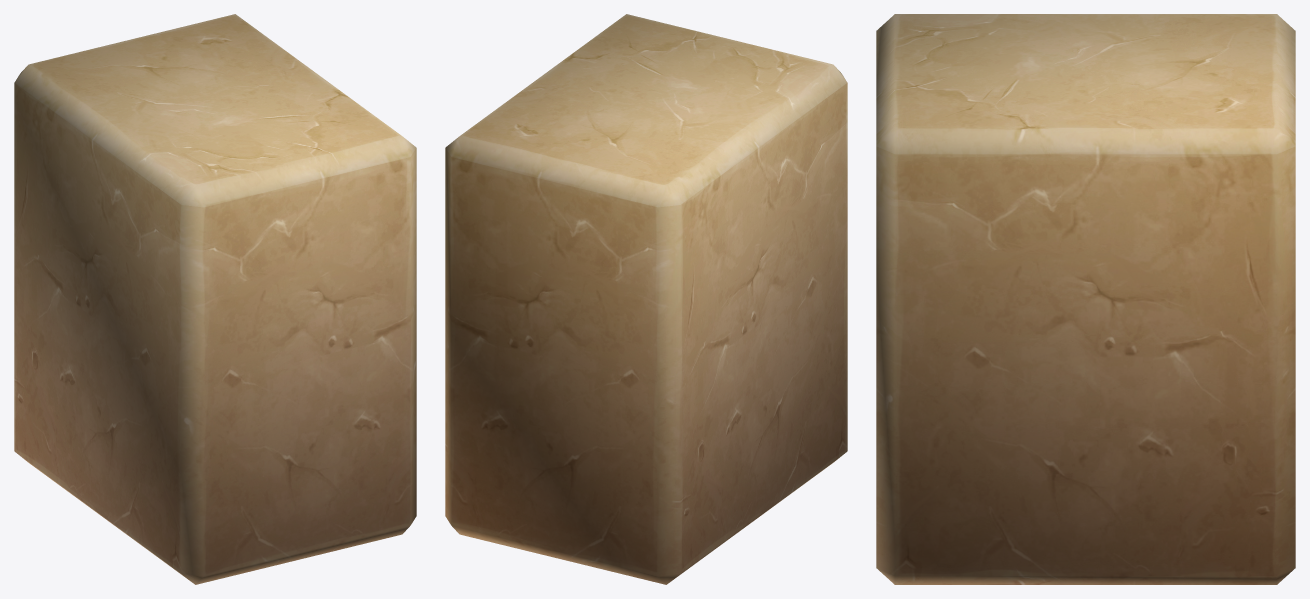
File: DE_House_Mod_Part_69.fbx
3 views of the same model, side by side, from view 1: azimuth 30°, elevation 25°; view 2: azimuth 150°, elevation 25°; view 3: azimuth 270°, elevation 25° (orthographic). The views are drawn at different scales.
Visible parts, largest first — view 1: DE_House_Mod_Part_69; view 2: DE_House_Mod_Part_69; view 3: DE_House_Mod_Part_69.
Part boxes in pixels (box(x1,y1,x2,y2)): DE_House_Mod_Part_69: box(14, 14, 416, 584); DE_House_Mod_Part_69: box(445, 14, 847, 584); DE_House_Mod_Part_69: box(876, 14, 1295, 584).
Size of the model in its own units: 2 by 3.23 by 2.69.
